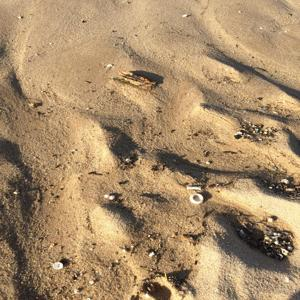plastic: (190, 191, 205, 208), (52, 260, 63, 270)
